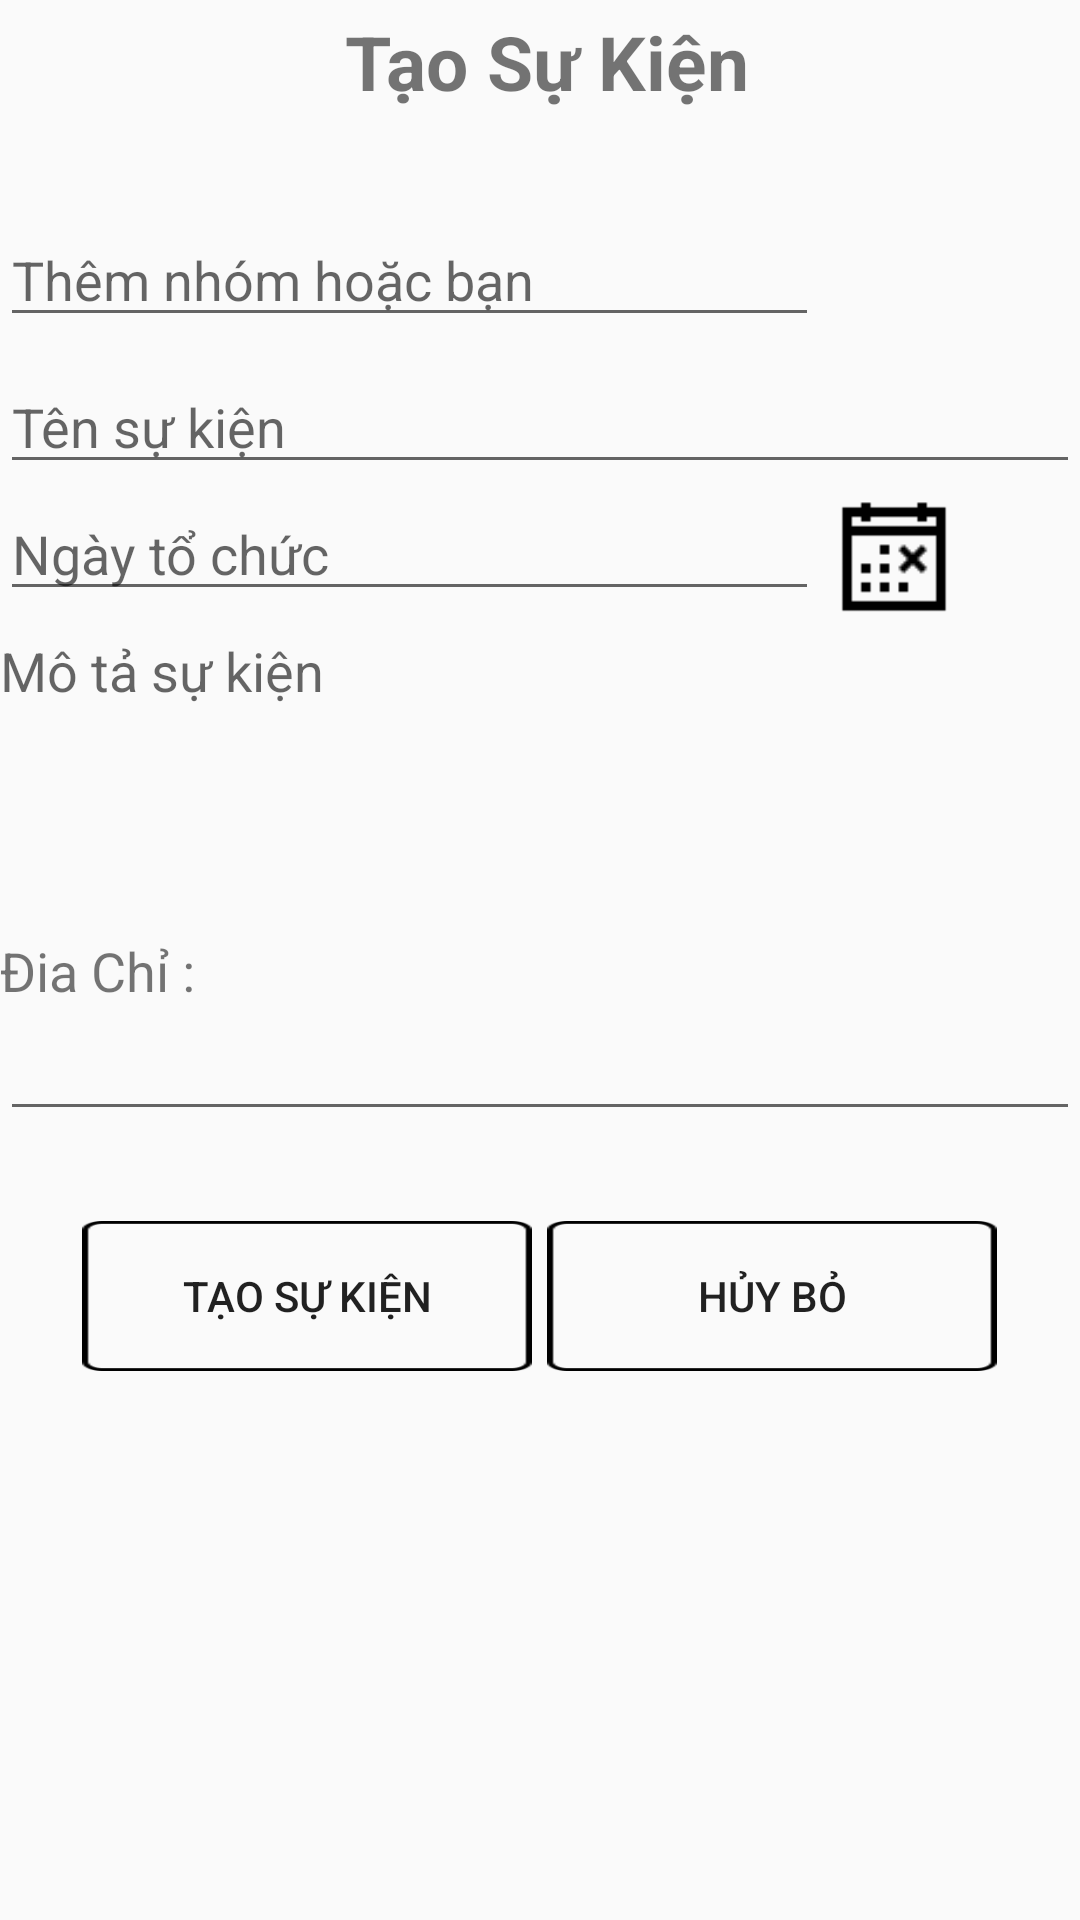

Icon click points for this 1080px x 1920px phone screenshot, format [x,y]:
crosseddateicon: [894,557]
